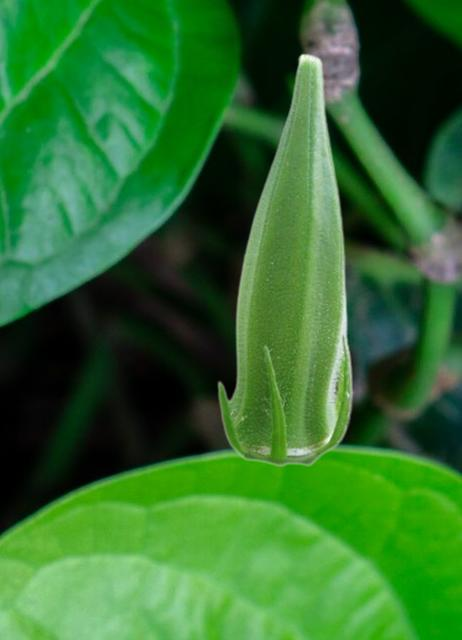okra: (216, 52, 353, 466)
